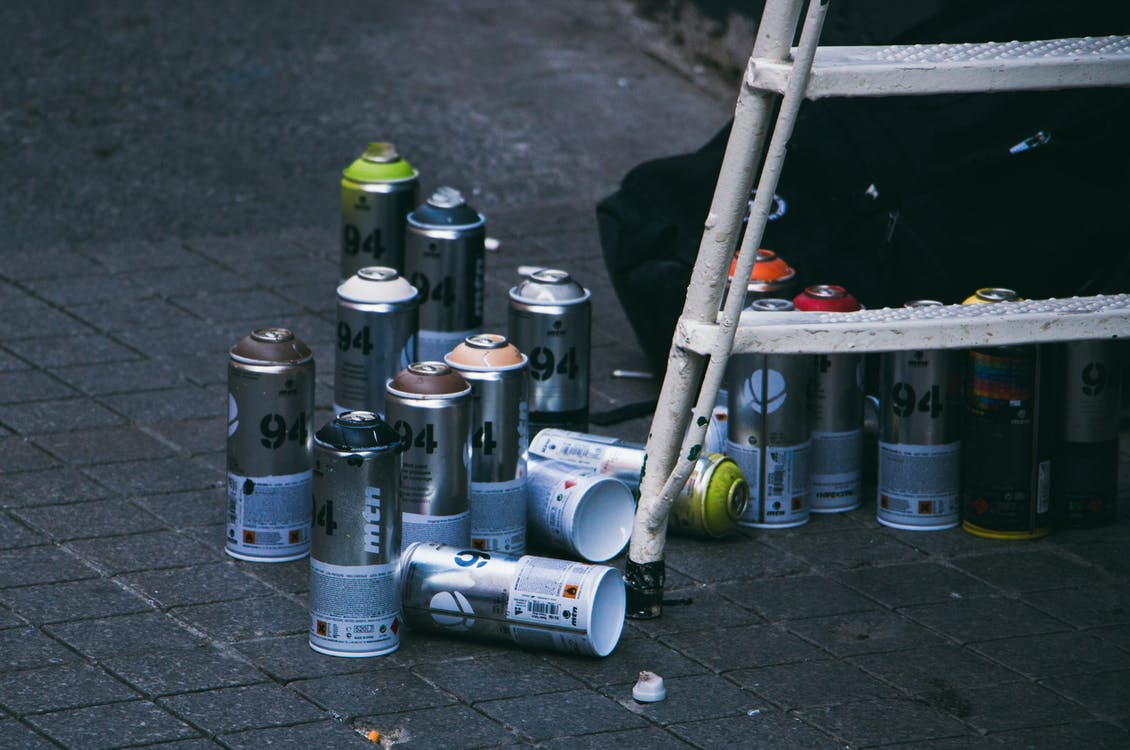Aerosol_cans: (394, 538, 631, 671), (305, 407, 410, 665), (220, 322, 322, 570), (445, 328, 534, 554), (381, 361, 476, 550), (508, 263, 594, 444), (401, 183, 491, 347), (330, 264, 420, 401)
